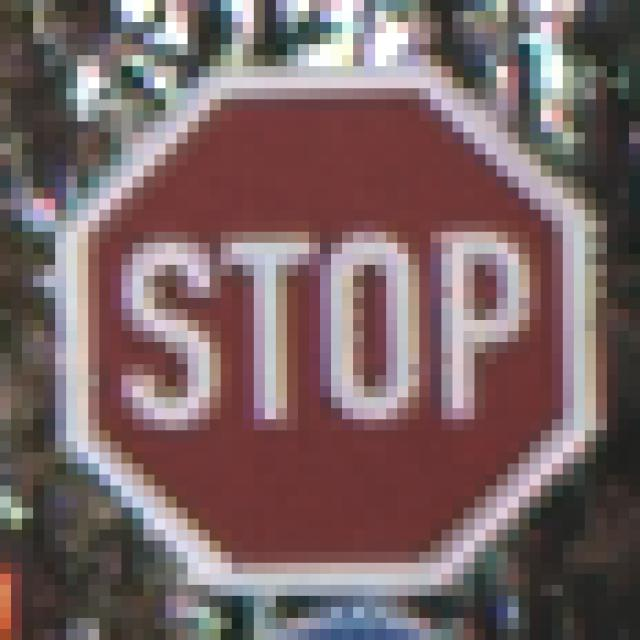STOP: (56, 67, 586, 586)
